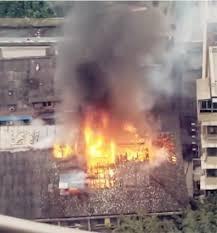fire: (49, 107, 176, 188)
